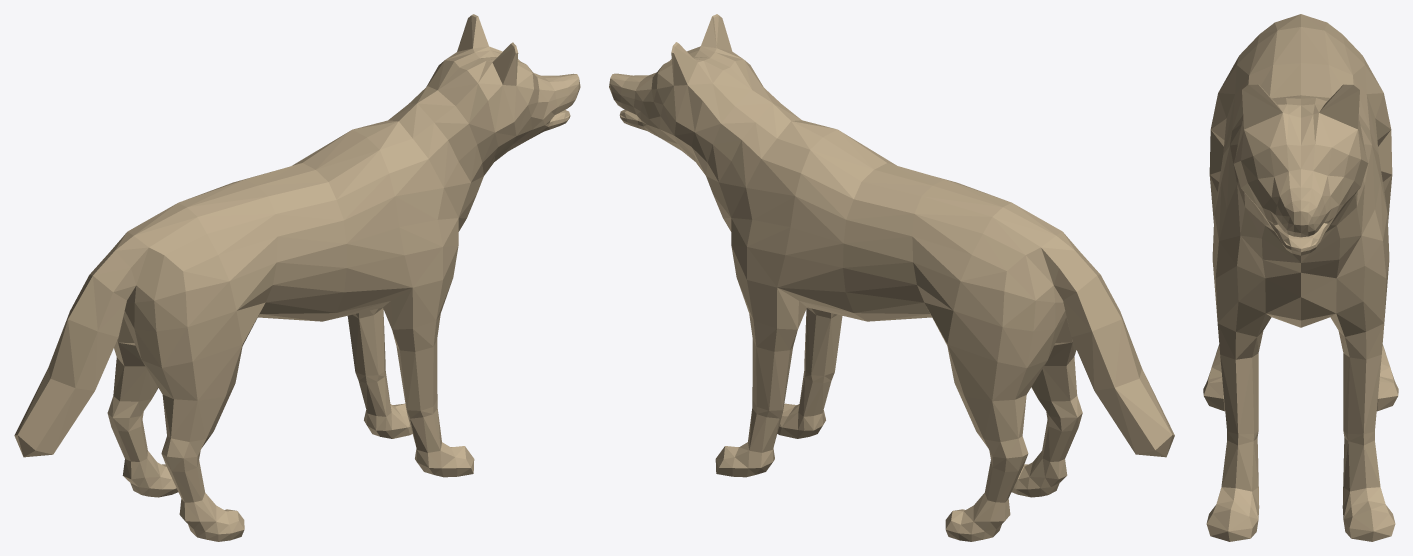
Rendered from Wolf.glb.
3 views of the same model, side by side, from view 1: azimuth 30°, elevation 25°; view 2: azimuth 150°, elevation 25°; view 3: azimuth 270°, elevation 25° (orthographic). The views are drawn at different scales.
Visible parts, largest first — view 1: Wolf; view 2: Wolf; view 3: Wolf.
Boxes of the visible parts, x1=… form: Wolf: x1=14, y1=14, x2=580, y2=541; Wolf: x1=609, y1=14, x2=1174, y2=541; Wolf: x1=1203, y1=14, x2=1398, y2=541.
Bounding box in the file's own units: 309 × 217 × 77.14.
